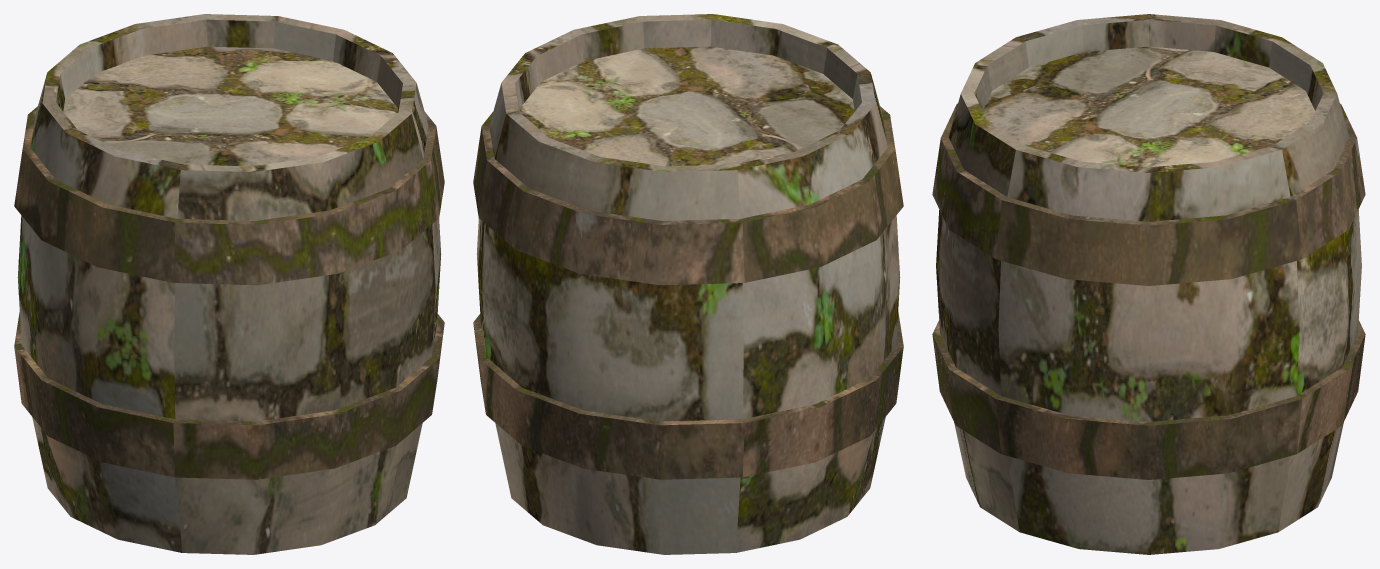
File: Barrels.FBX
3 renders of one model, left to right at view 1: azimuth 30°, elevation 25°; view 2: azimuth 150°, elevation 25°; view 3: azimuth 270°, elevation 25°, orthographic.
Parts seen in each view (by area): view 1: Cylinder009; view 2: Cylinder009; view 3: Cylinder009.
Part boxes in pixels (x1,y1,x2,y2): Cylinder009: (14, 14, 444, 554); Cylinder009: (473, 14, 903, 554); Cylinder009: (932, 14, 1365, 554).
Bounding box in the file's own units: 27.7 × 27.7 × 27.1.
Materials: 2 (2 with a texture image).
